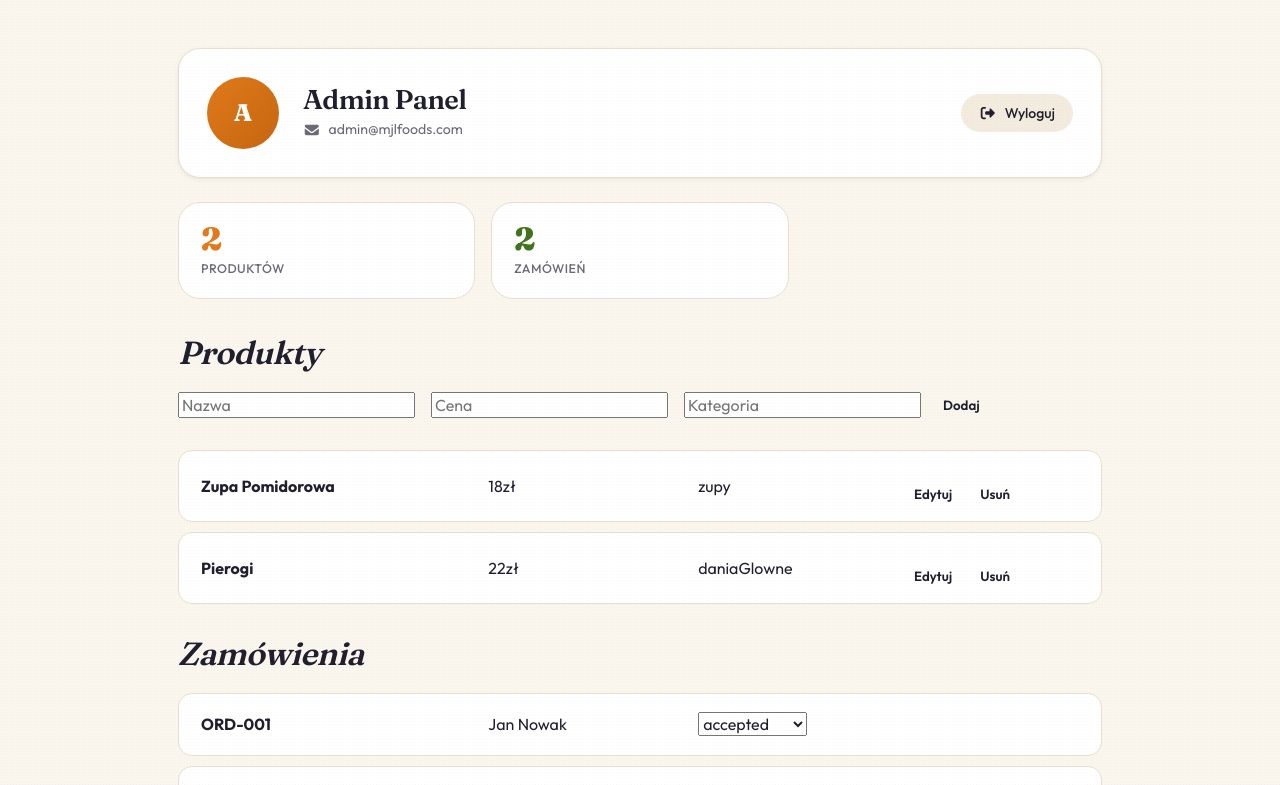
Admin — produkty › dodaje produkt po wypełnieniu formularza i kliknięciu Dodaj
Expected: the text "Zupa Pomidorowa" is shown, left=201, top=476, right=335, bottom=496
Type "Sernik" into the field with placeholder "Nazwa".
click(296, 405); type("Sernik")  # box left=178, top=392, right=415, bottom=418
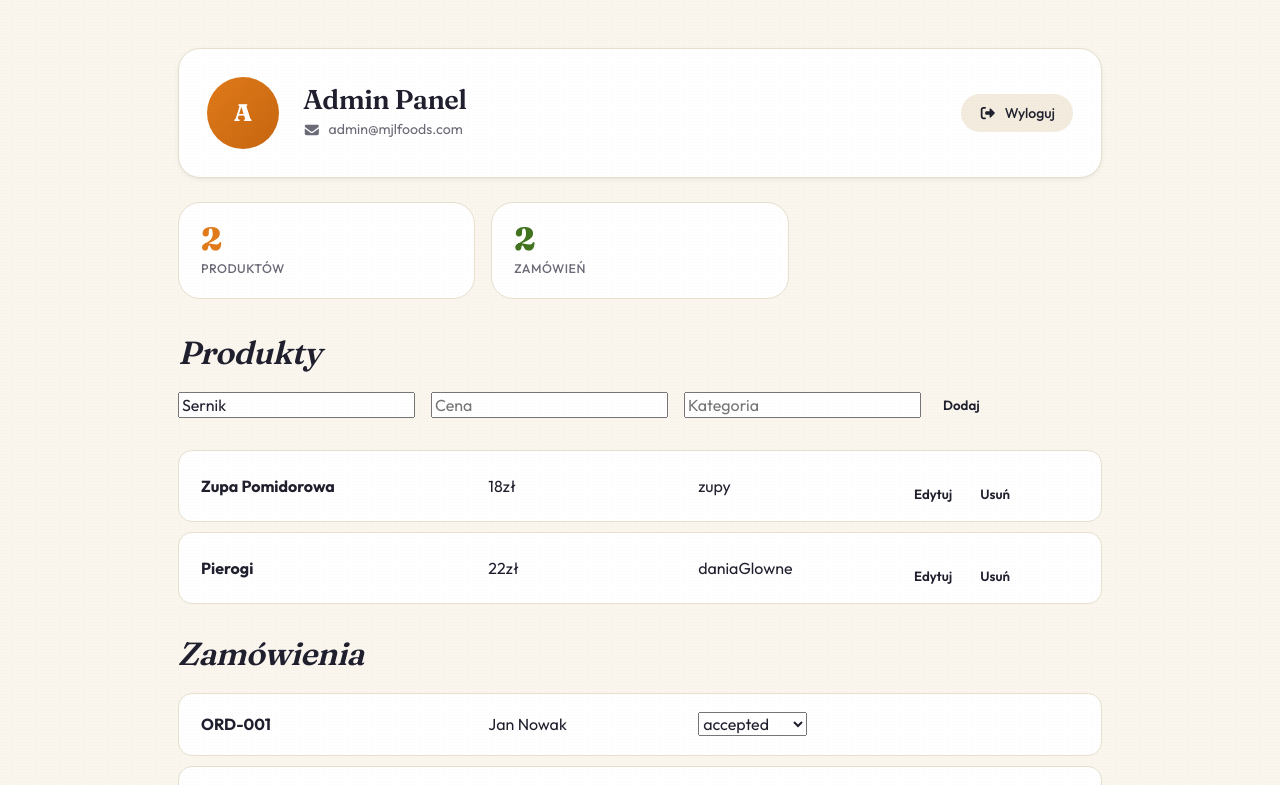
Type "15" into the number field with placeholder "Cena".
click(550, 405); type("15")  # box left=431, top=392, right=668, bottom=418
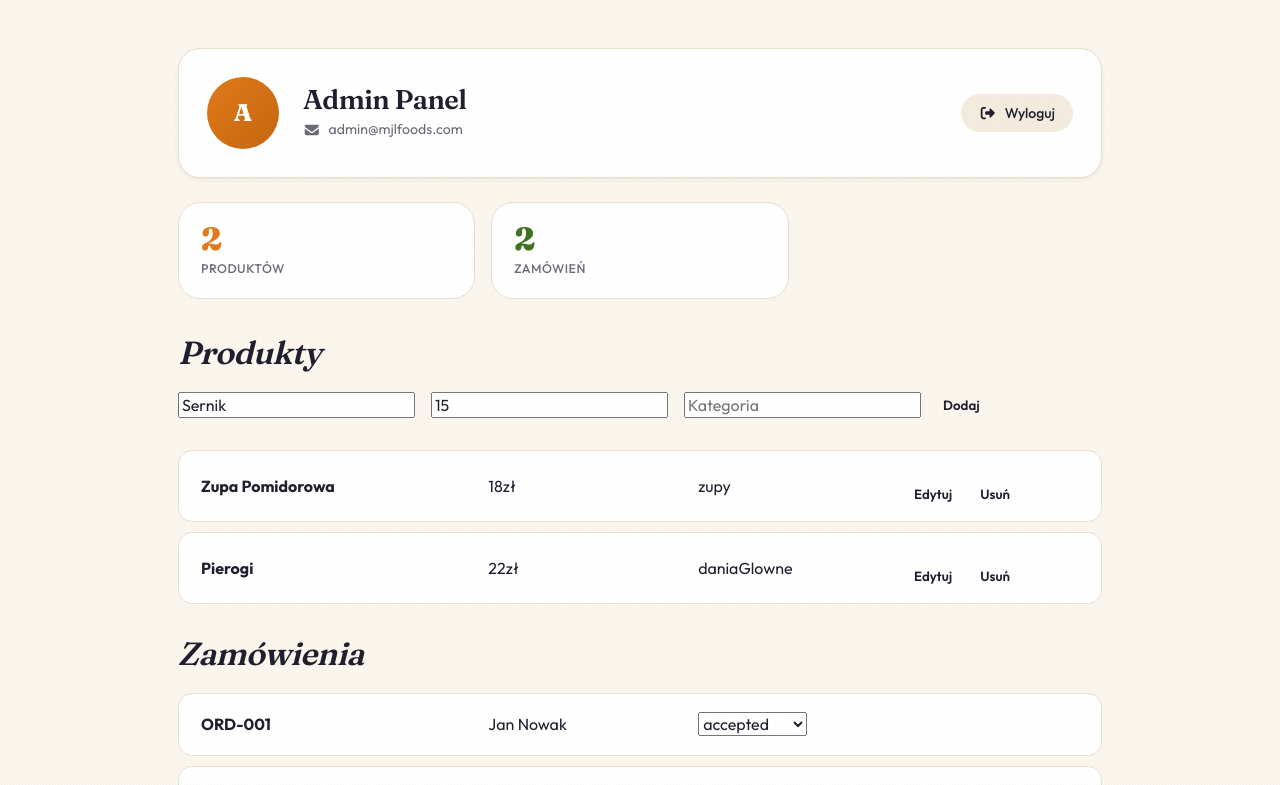
Type "desery" into the field with placeholder "Kategoria".
click(802, 405); type("desery")  # box left=684, top=392, right=921, bottom=418
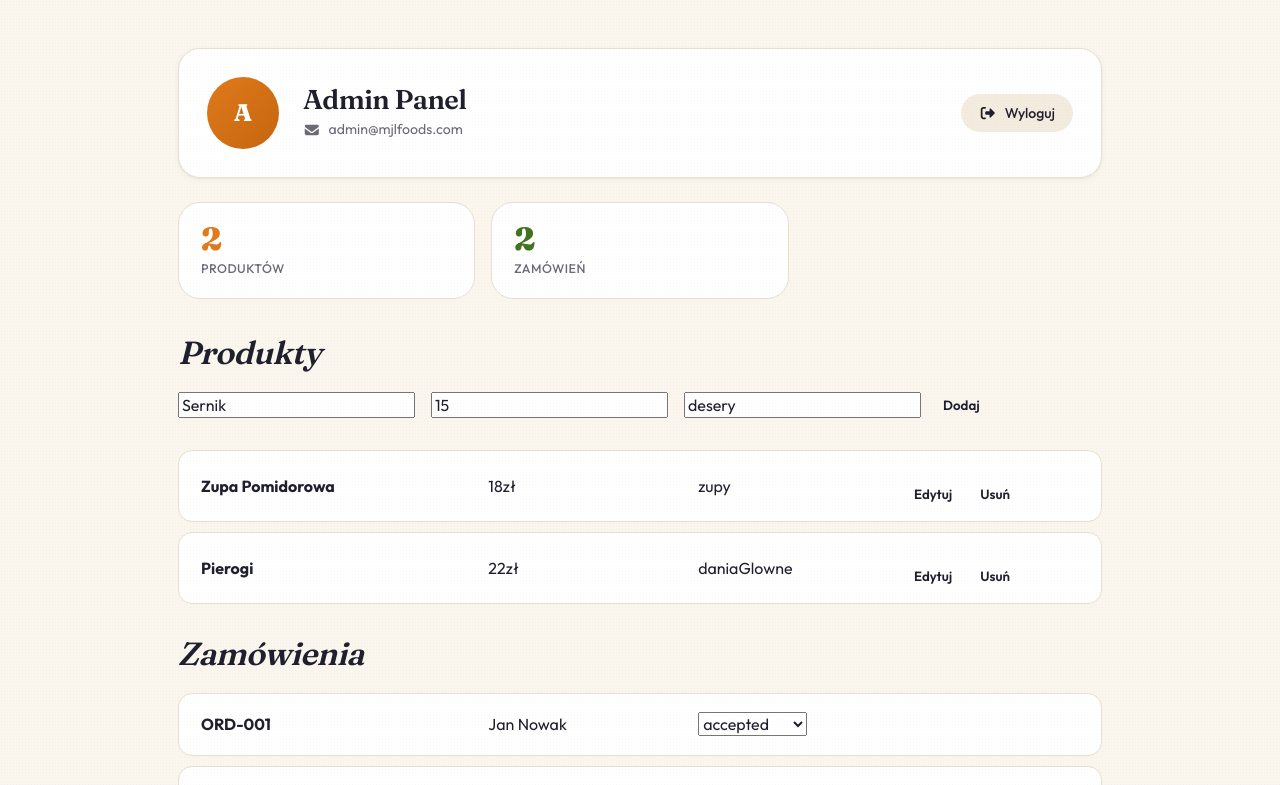
Click the button "Dodaj".
click(961, 405)  # box left=937, top=392, right=986, bottom=418
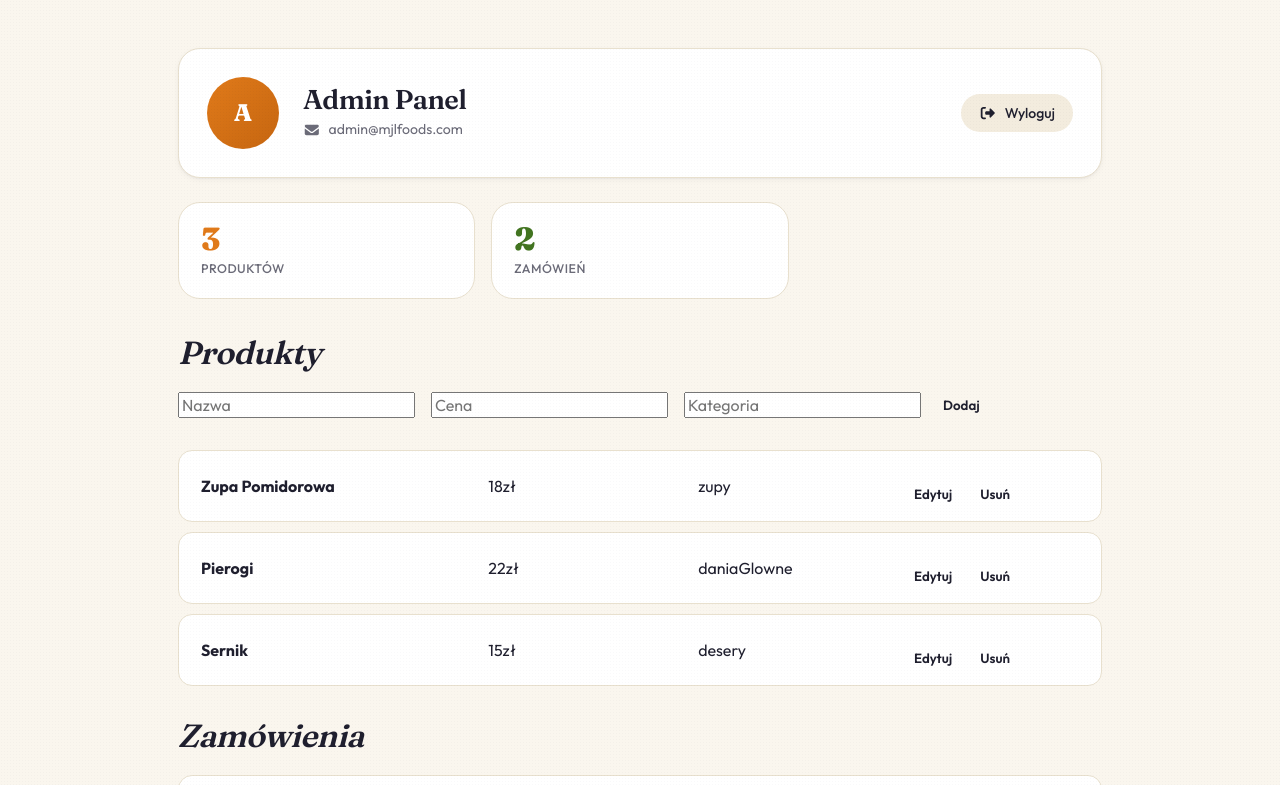
Result: the text "Sernik" is shown at left=201, top=640, right=248, bottom=660
